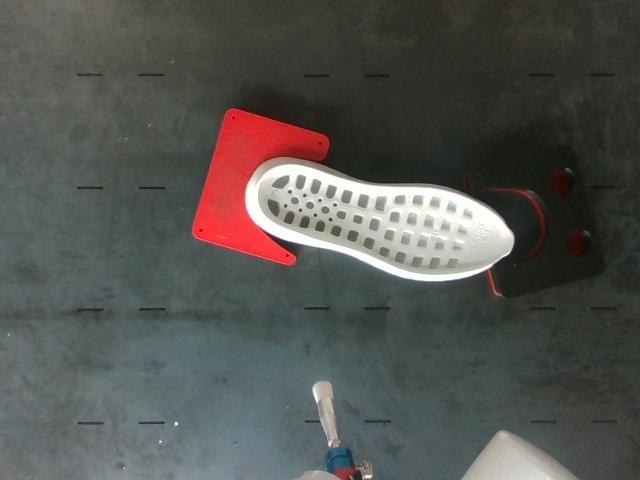shoes: (258, 164, 512, 276)
